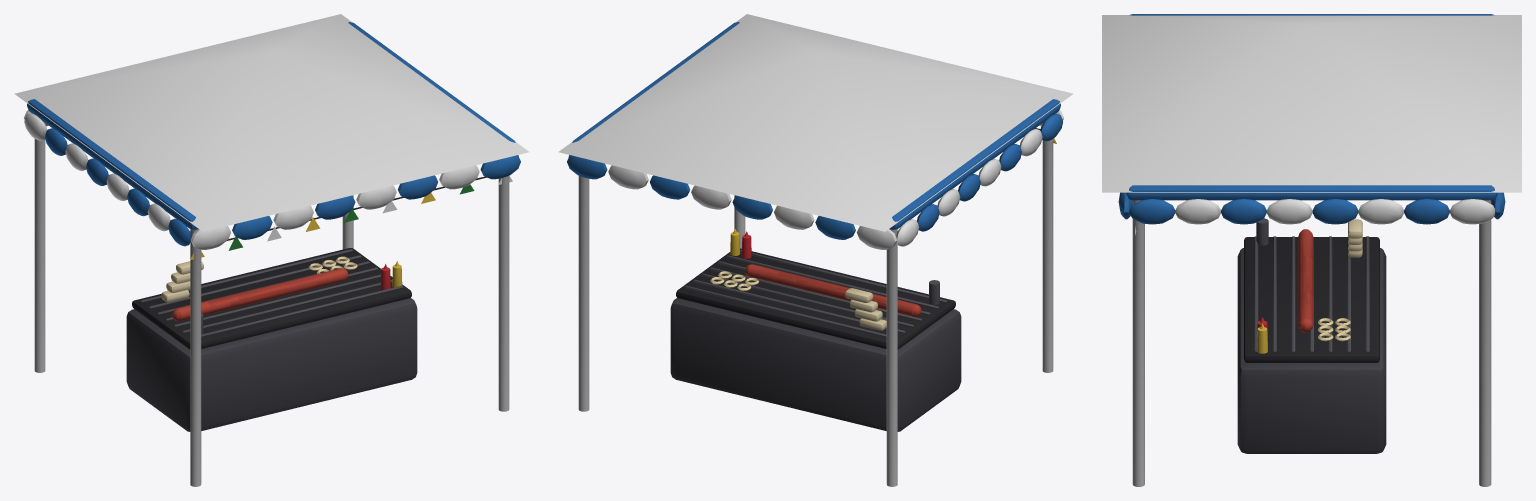
File: pp-sizzle.glb
3 views of the same model, side by side, from view 1: azimuth 30°, elevation 25°; view 2: azimuth 150°, elevation 25°; view 3: azimuth 270°, elevation 25° (orthographic). The views are drawn at different scales.
Bounding box in the file's own units: 3.51 × 3.35 × 3.39.
